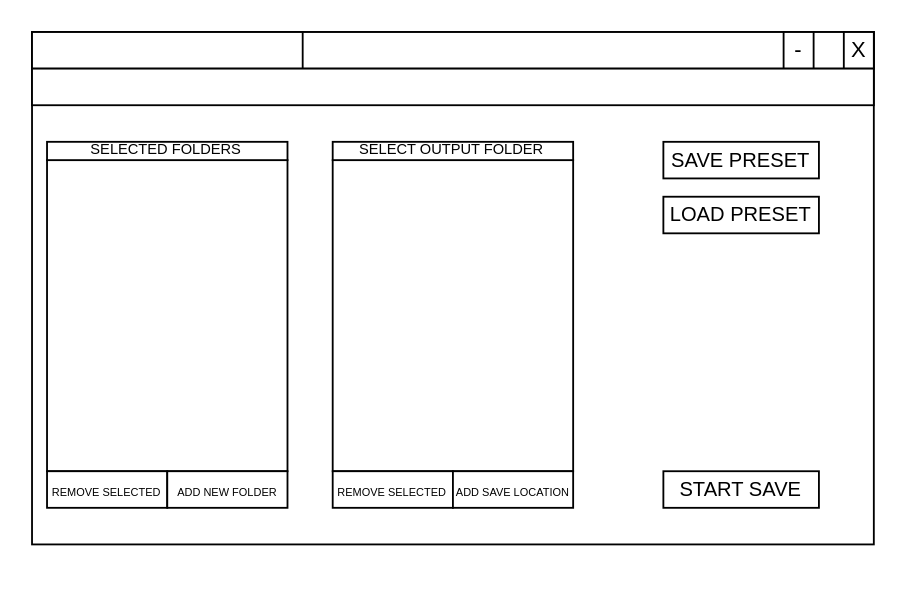
Image size: 906x613. Some labels were removed from this diagram. The shapes that lost their labels are listed below. From the top down, each one's box as (x1, y1, x2, y2) in pixels, then its label:
(30, 30, 303, 69): TITLE
(30, 67, 874, 105): MENU
